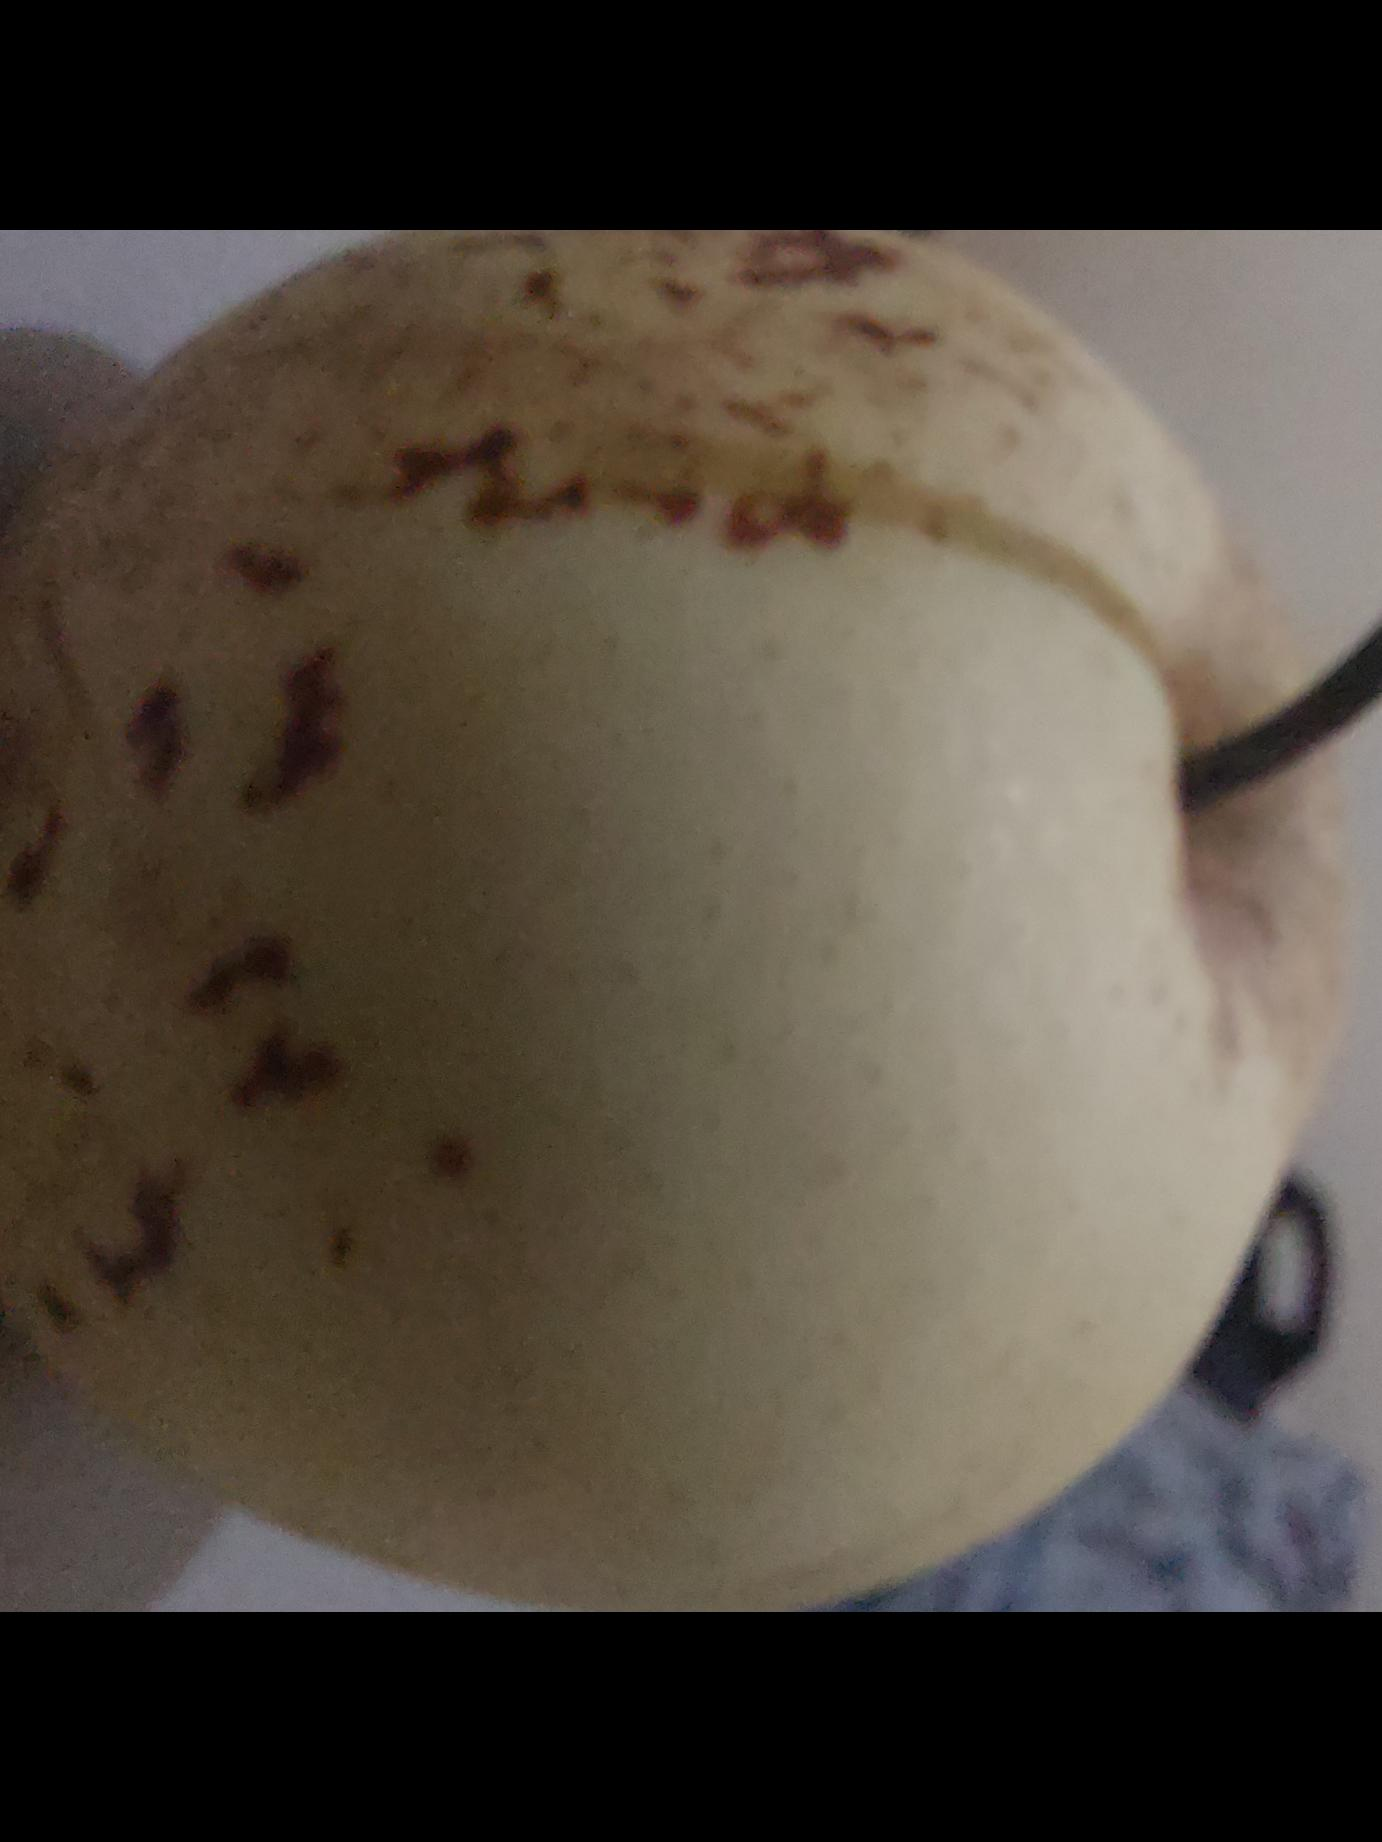Bad Pear: (0, 229, 1357, 1613)
